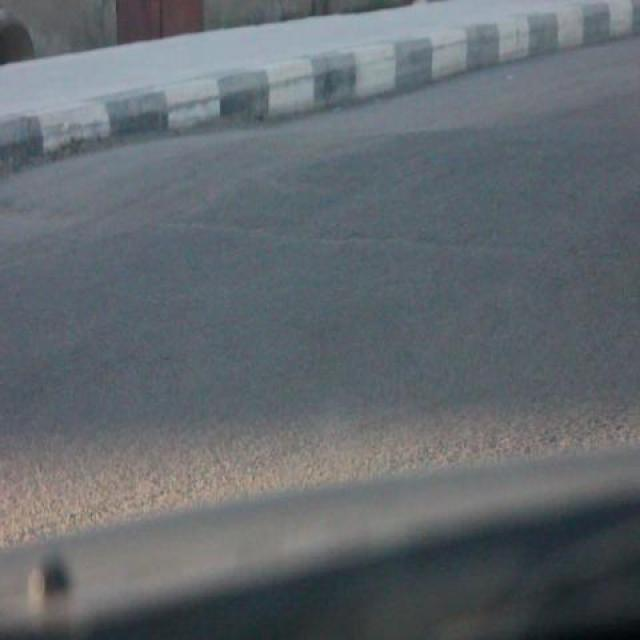Unmarked Bump: (0, 118, 640, 257)
